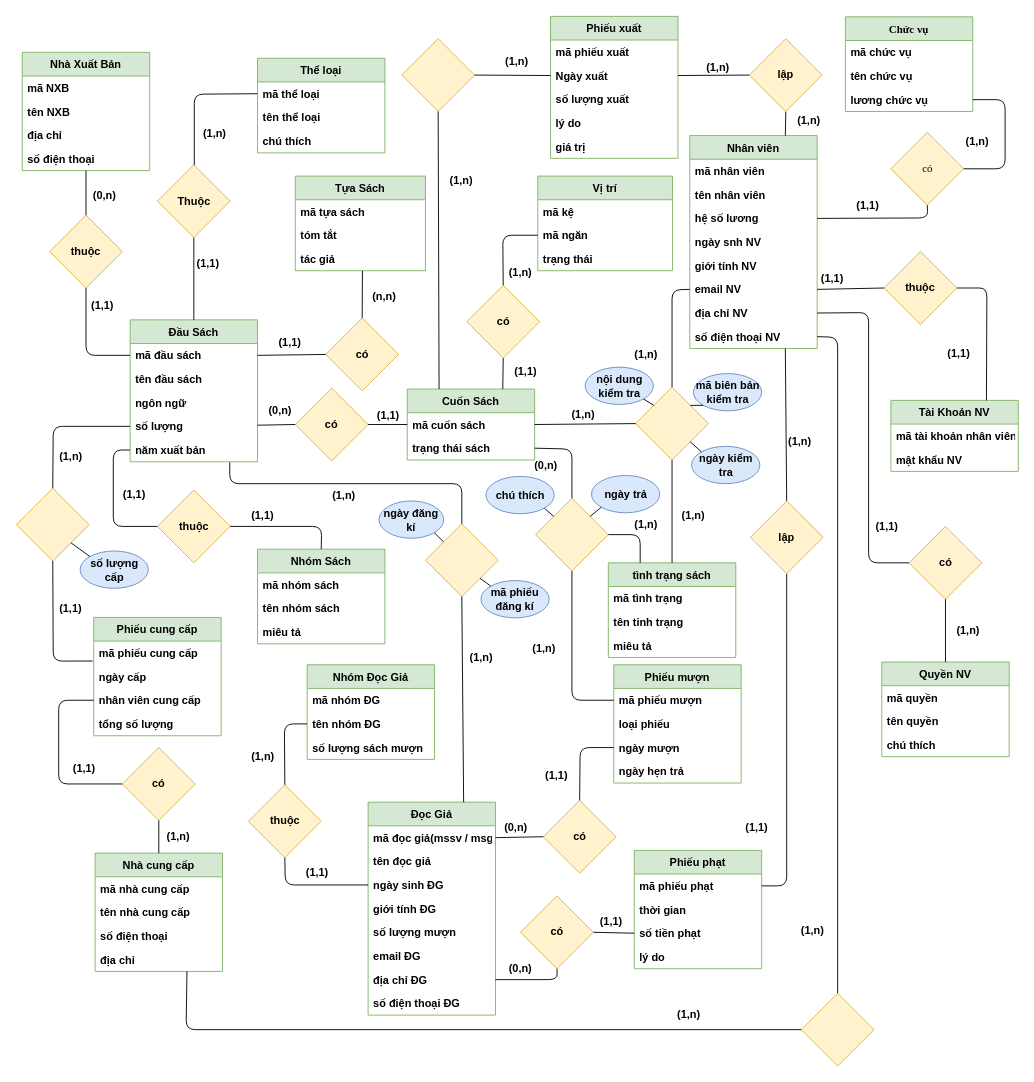
The diagram is 1034 pixels wide and 1082 high, and some of its shapes have lost their labels. The shapes that lost their labels are listed below. From the top down, each one's centre as x and y in pixels, then its label:
[438,74]: chi tiết phiếu xuất
[671,423]: kiểm tra đáng giá
[52,524]: chi tiết phiếu cung cấp
[571,534]: Chi tiết phiếu mượn
[461,560]: đăng kí mượn
[837,1029]: liên hệ
